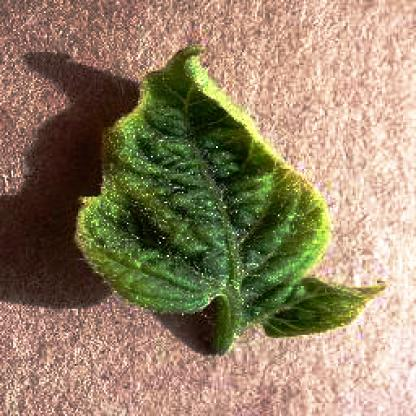Virus: (68, 39, 392, 361)
